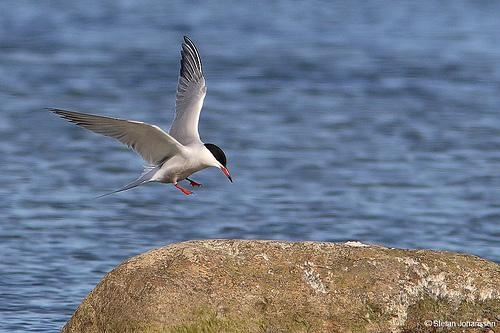bird: (45, 35, 236, 196)
